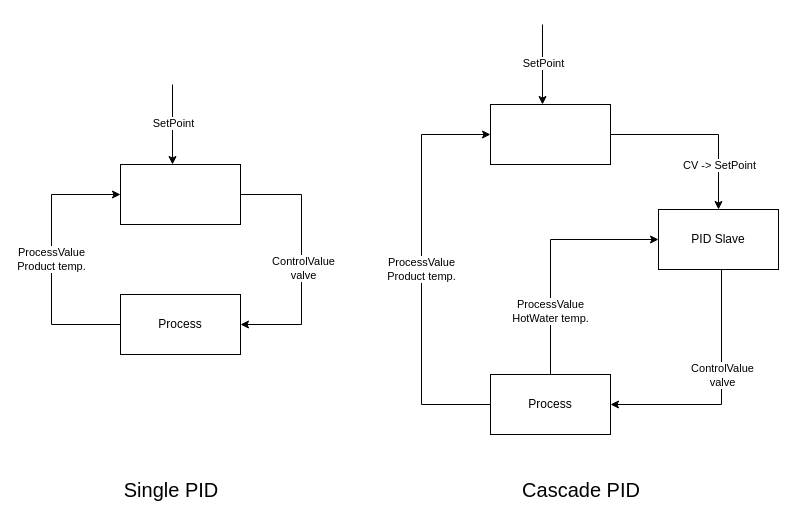
Some shapes in this 796 by 522 pixel diagram are drawn without their labels. The shapes that lost their labels are listed below. From the top down, each one's box as (x1, y1, x2, y2) in pixels, then its label:
(490, 104, 610, 164): PID Master
(120, 164, 240, 224): PID
